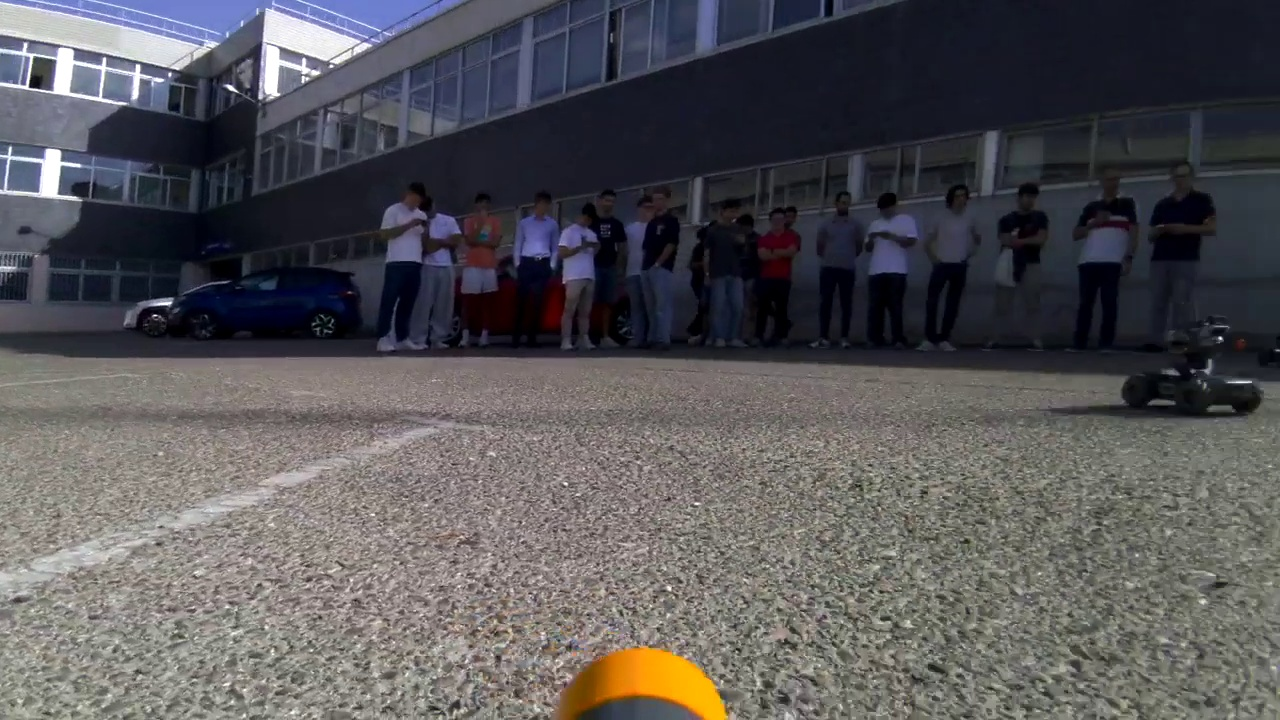robot: (1124, 311, 1266, 425)
